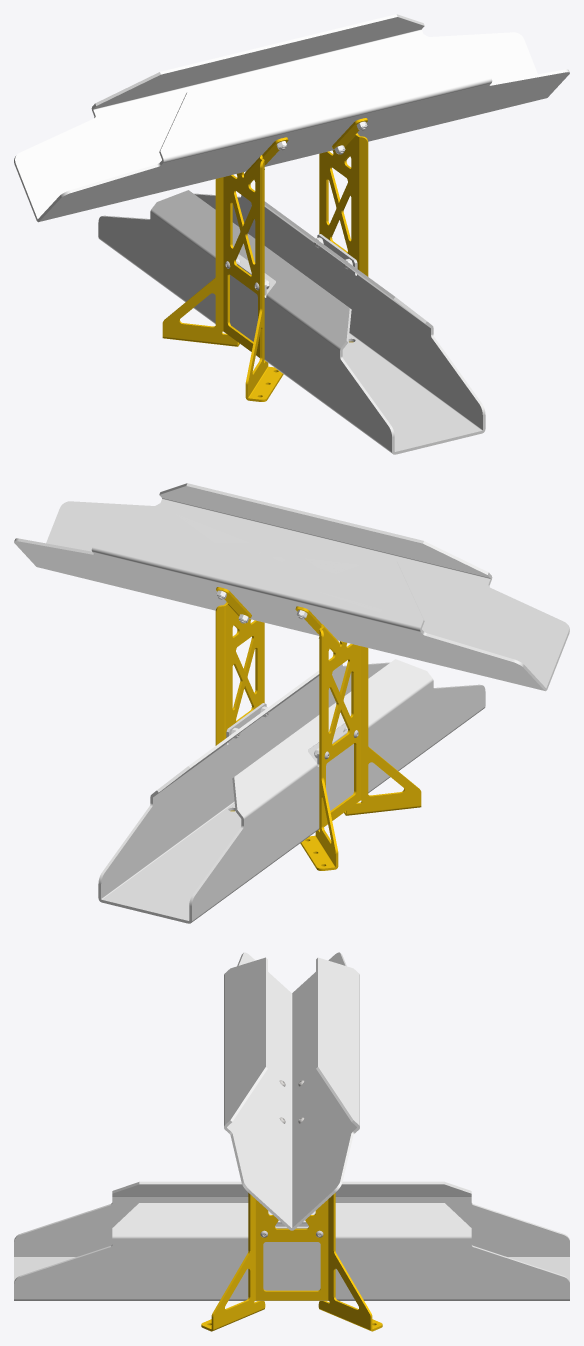
The model's file is Center Goal.fbx.
3 renders of one model, top to bottom at view 1: azimuth 30°, elevation 25°; view 2: azimuth 150°, elevation 25°; view 3: azimuth 270°, elevation 25°, orthographic. The views are drawn at different scales.
Visible parts, largest first — view 1: Body1.002; view 2: Body1.002; view 3: Body1.002.
Boxes of the visible parts, x1,y1,x2,y2 form: Body1.002: (14, 14, 569, 454); Body1.002: (14, 483, 569, 923); Body1.002: (14, 952, 569, 1331).
Size of the model in its own units: 57399 by 31854 by 57399.
